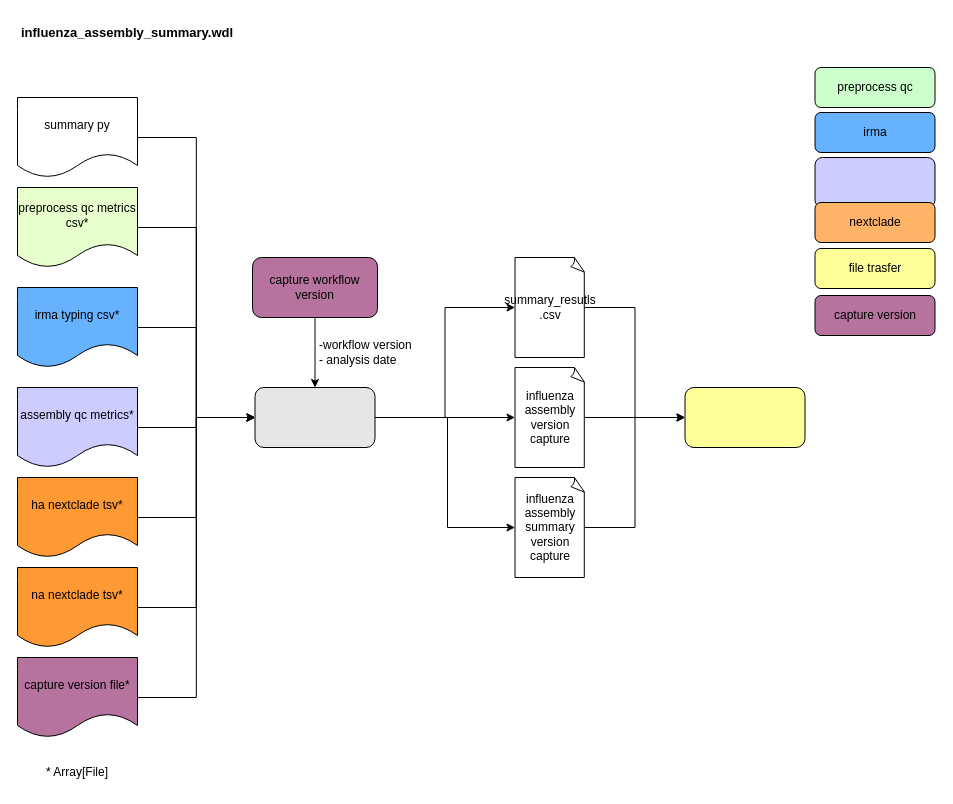
Image size: 953x804. Some labels were removed from this diagram. The centre of each missing label's shape, as x and y in pixels:
post assembly processing: the point at 874,182
summary: the point at 314,417
transfer: the point at 744,417
